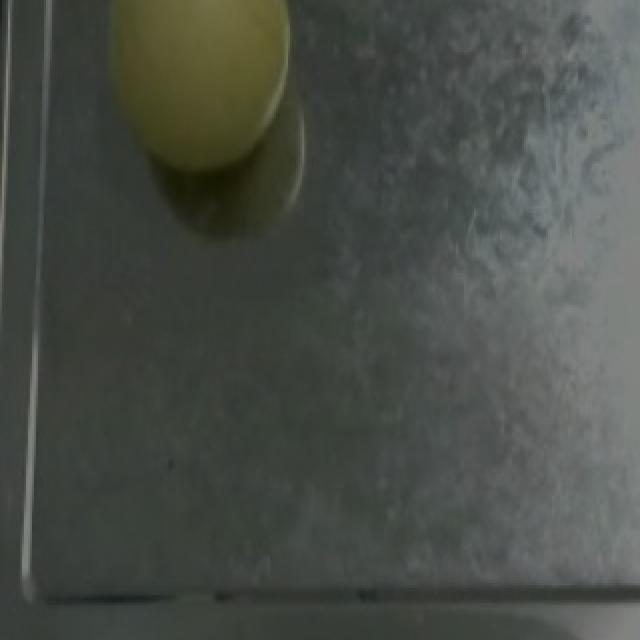Fruit: (86, 0, 302, 186)
